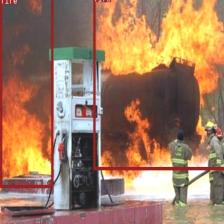fire: (93, 0, 224, 170), (0, 0, 52, 187)
